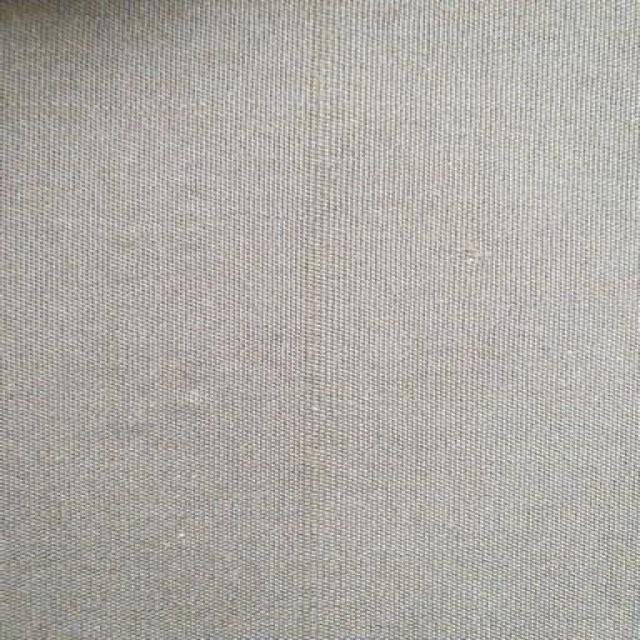stains: (203, 4, 433, 640)
